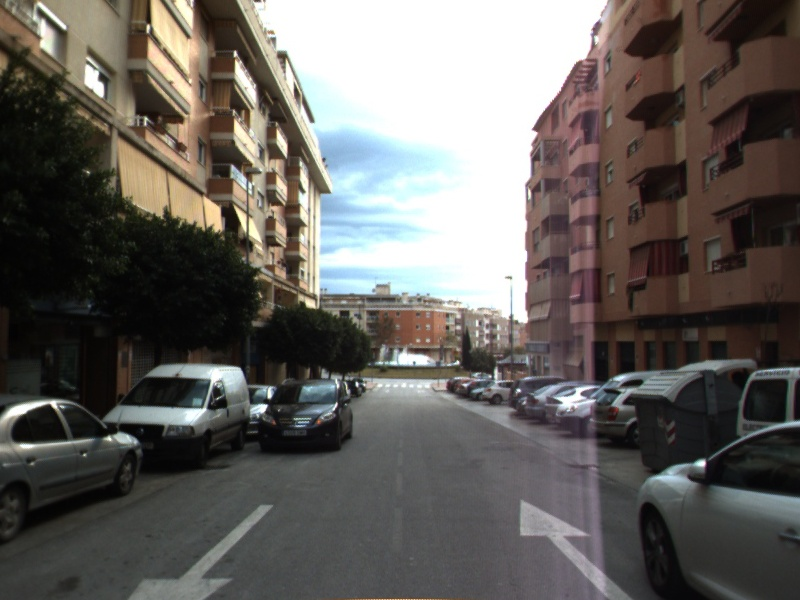STRAIGHT: (515, 496, 635, 600)
